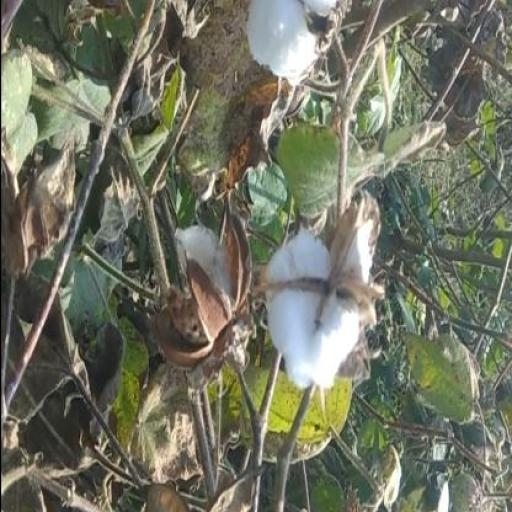cotton_ready: (246, 197, 382, 413)
